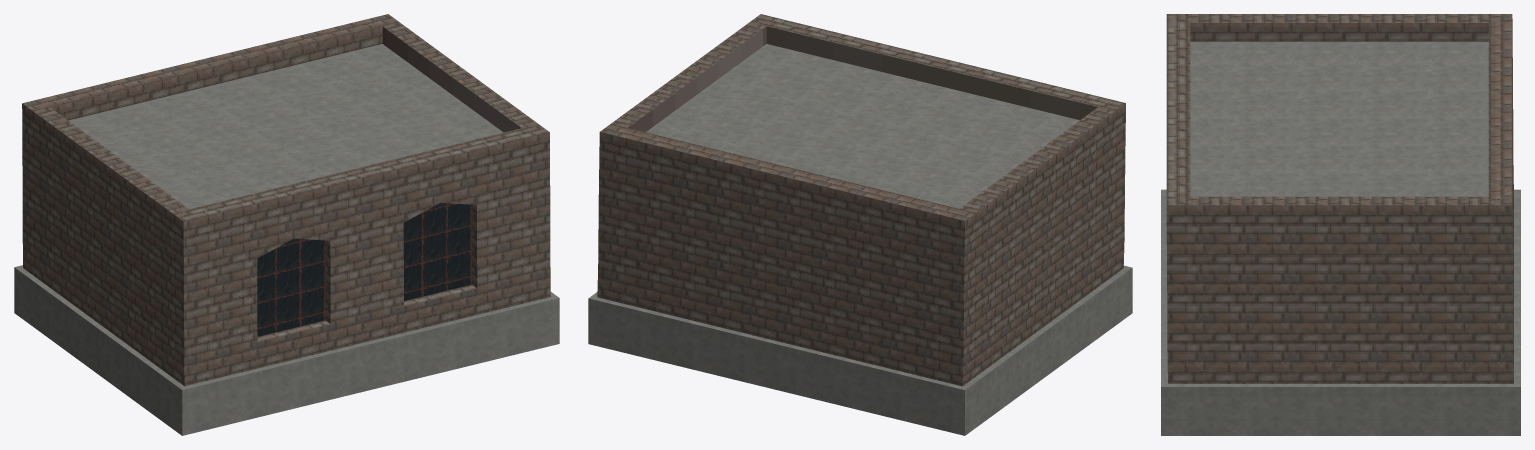
File: SmallHousetest2.fbx
The picture shows the model from 3 angles, left to right: view 1: azimuth 30°, elevation 25°; view 2: azimuth 150°, elevation 25°; view 3: azimuth 270°, elevation 25°; orthographic projection. The views are drawn at different scales.
Visible parts, largest first — view 1: Cube; view 2: Cube; view 3: Cube.
Boxes of the visible parts, <box> form: Cube: <box>14,14,559,435</box>; Cube: <box>588,14,1132,435</box>; Cube: <box>1161,14,1520,435</box>.
Bounding box in the file's own units: 427 × 329 × 229.
